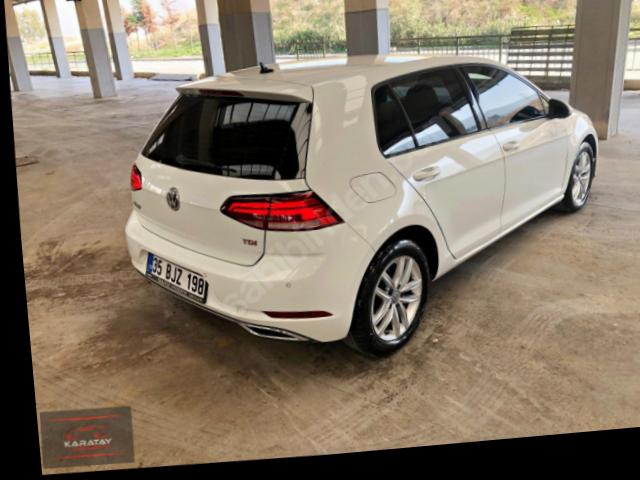plaka: (146, 253, 207, 303)
